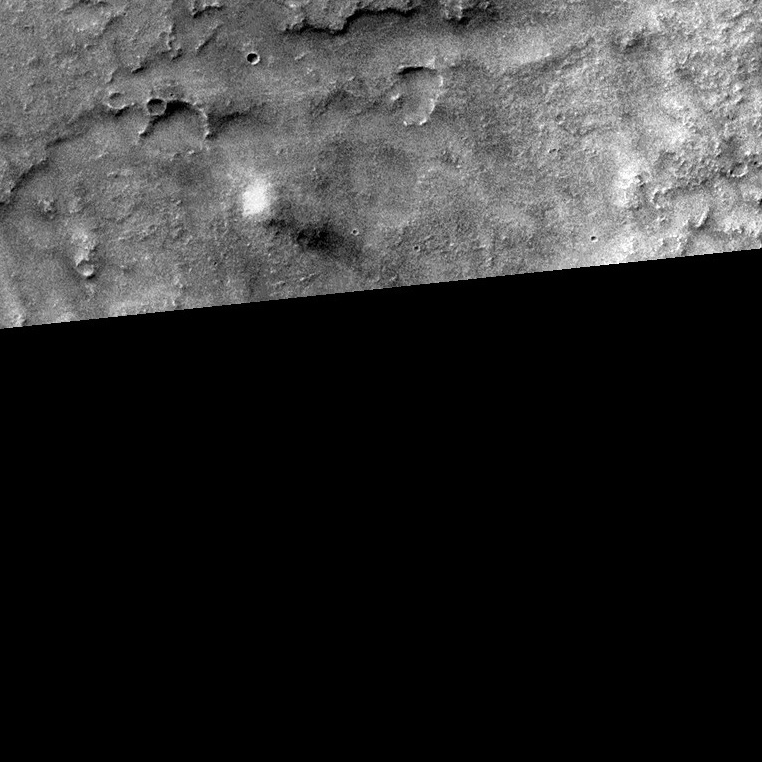dust_devil: (234, 168, 372, 274)
